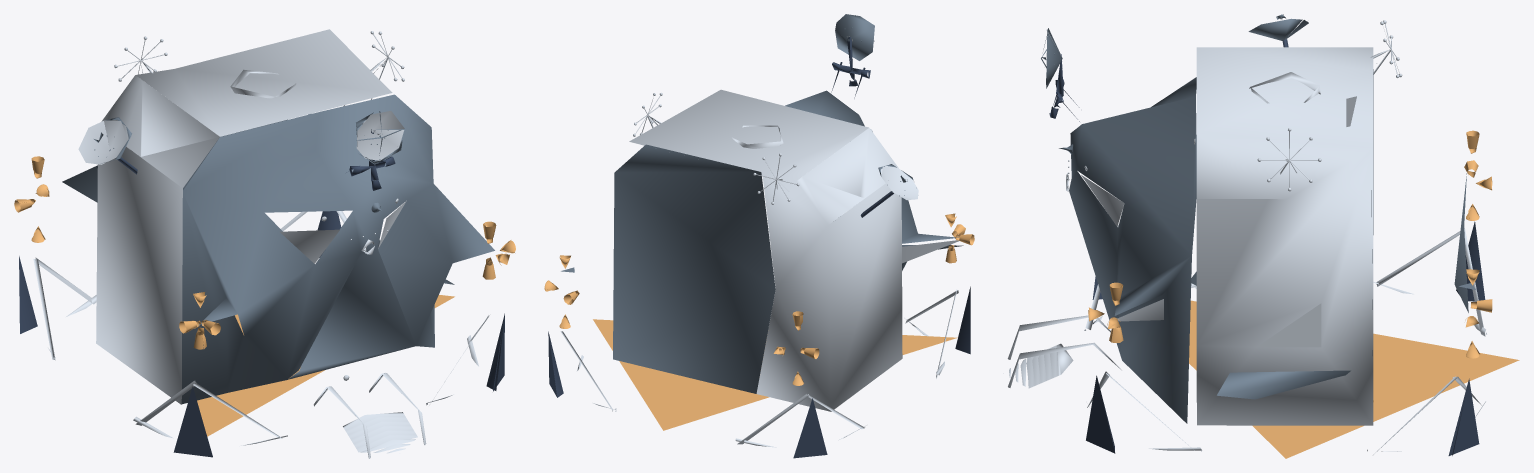
The model's file is apollo_etapa_ascenso.glb.
3 views of the same model, side by side, from view 1: azimuth 30°, elevation 25°; view 2: azimuth 150°, elevation 25°; view 3: azimuth 270°, elevation 25° (orthographic). The views are drawn at different scales.
Parts seen in each view (by area): view 1: apollo_etapa_ascenso; view 2: apollo_etapa_ascenso; view 3: apollo_etapa_ascenso.
Part boxes in pixels (<box>): apollo_etapa_ascenso: <box>14,29,515,458</box>; apollo_etapa_ascenso: <box>544,14,974,458</box>; apollo_etapa_ascenso: <box>1003,14,1519,458</box>.
Size of the model in its own units: 2.3 by 1.93 by 2.65.
